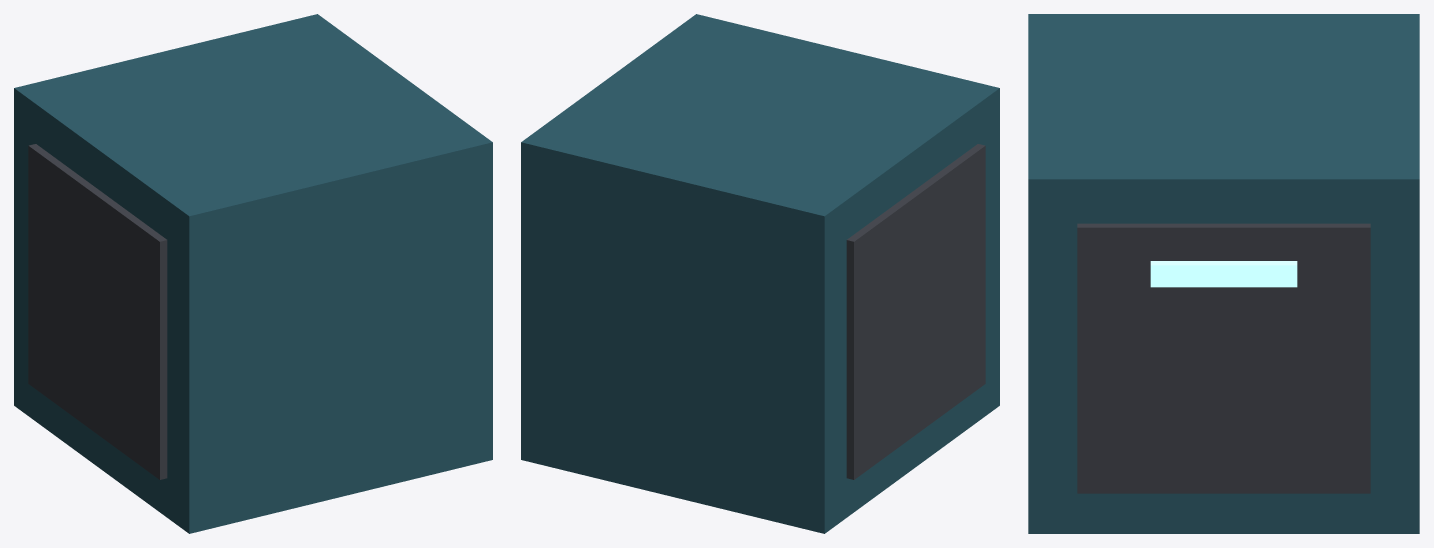
Rendered from SM_FutureCrate.fbx.
The picture shows the model from 3 angles, left to right: view 1: azimuth 30°, elevation 25°; view 2: azimuth 150°, elevation 25°; view 3: azimuth 270°, elevation 25°; orthographic projection. The views are drawn at different scales.
Visible parts, largest first — view 1: SM_FutureCrate; view 2: SM_FutureCrate; view 3: SM_FutureCrate.
Part boxes in pixels (x1,y1,x2,y2): SM_FutureCrate: [14, 14, 492, 533]; SM_FutureCrate: [521, 14, 999, 533]; SM_FutureCrate: [1028, 14, 1419, 533].
Size of the model in its own units: 86 by 80 by 80.
